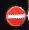No entry: (6, 5, 24, 25)
